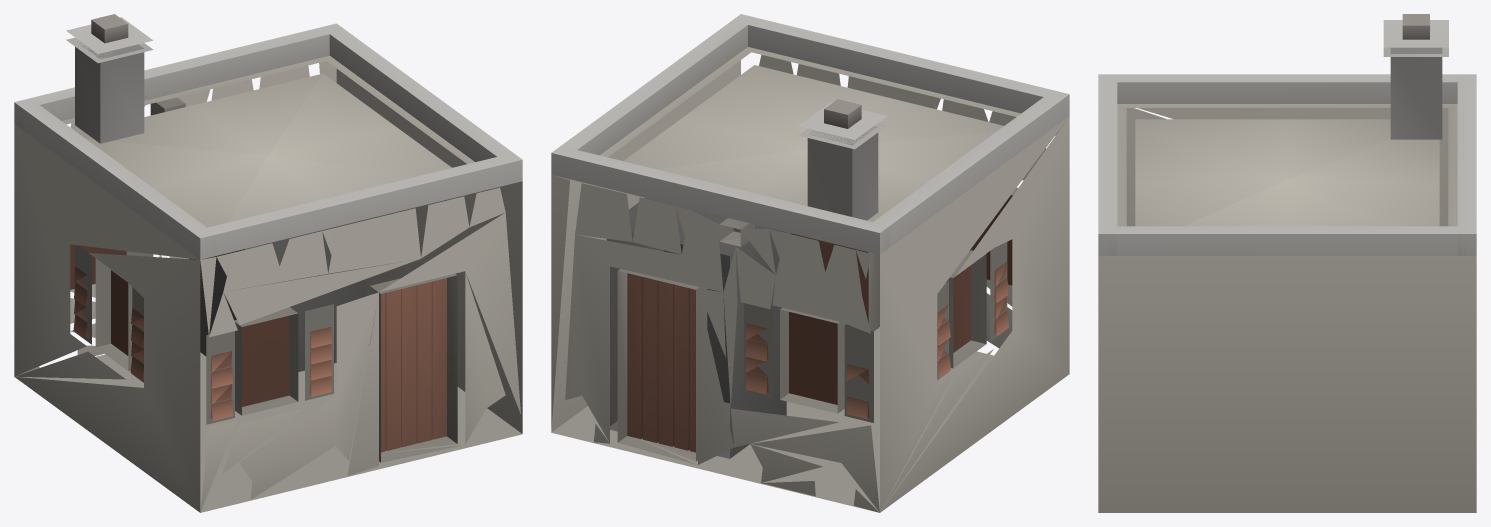
The picture shows the model from 3 angles, left to right: view 1: azimuth 30°, elevation 25°; view 2: azimuth 150°, elevation 25°; view 3: azimuth 270°, elevation 25°; orthographic projection.
Visible parts, largest first — view 1: cube1c; view 2: cube1c; view 3: cube1c.
Part boxes in pixels (x1=…): cube1c: x1=14, y1=14, x2=522, y2=512; cube1c: x1=551, y1=14, x2=1069, y2=512; cube1c: x1=1098, y1=14, x2=1476, y2=512.
Size of the model in its own units: 4.4 by 4.7 by 4.4.
